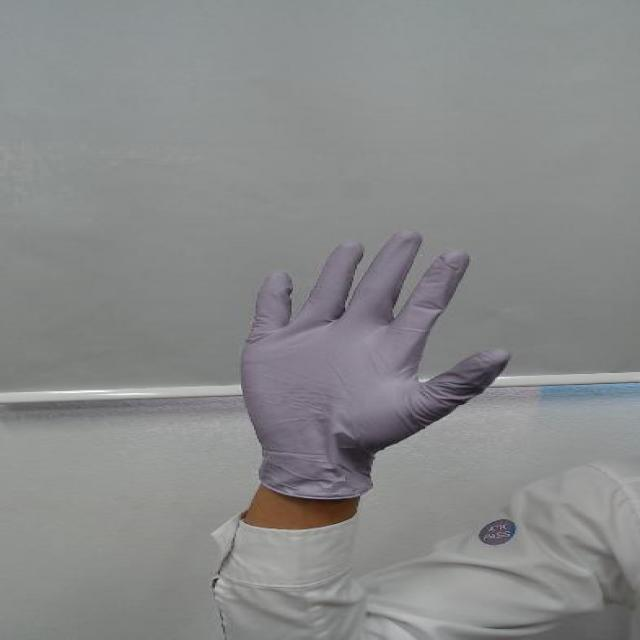with_gloves: (222, 224, 534, 421)
